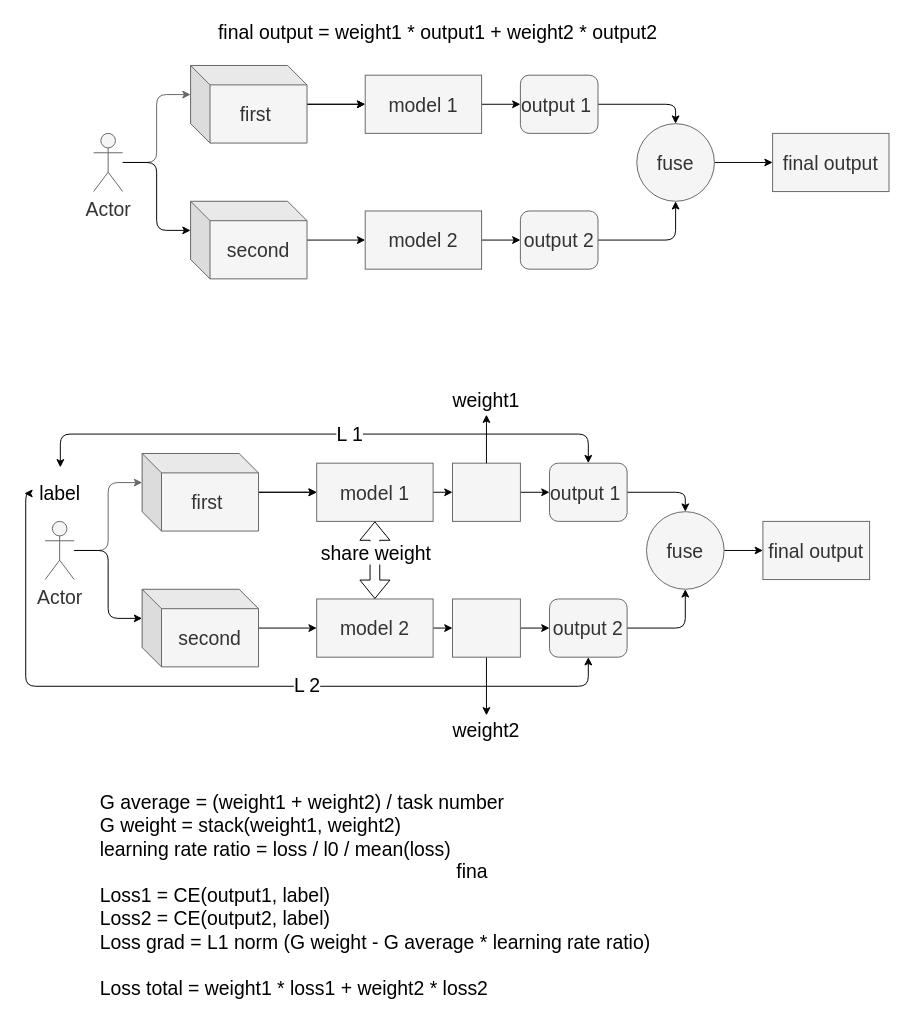
The diagram is 907 pixels wide and 1022 high, and some of its shapes have lost their labels. Here are the shapes that lost their labels. From the top down, the centre of each, then its label:
At pixel 486 491: "head 1".
At pixel 486 627: "head 2".
